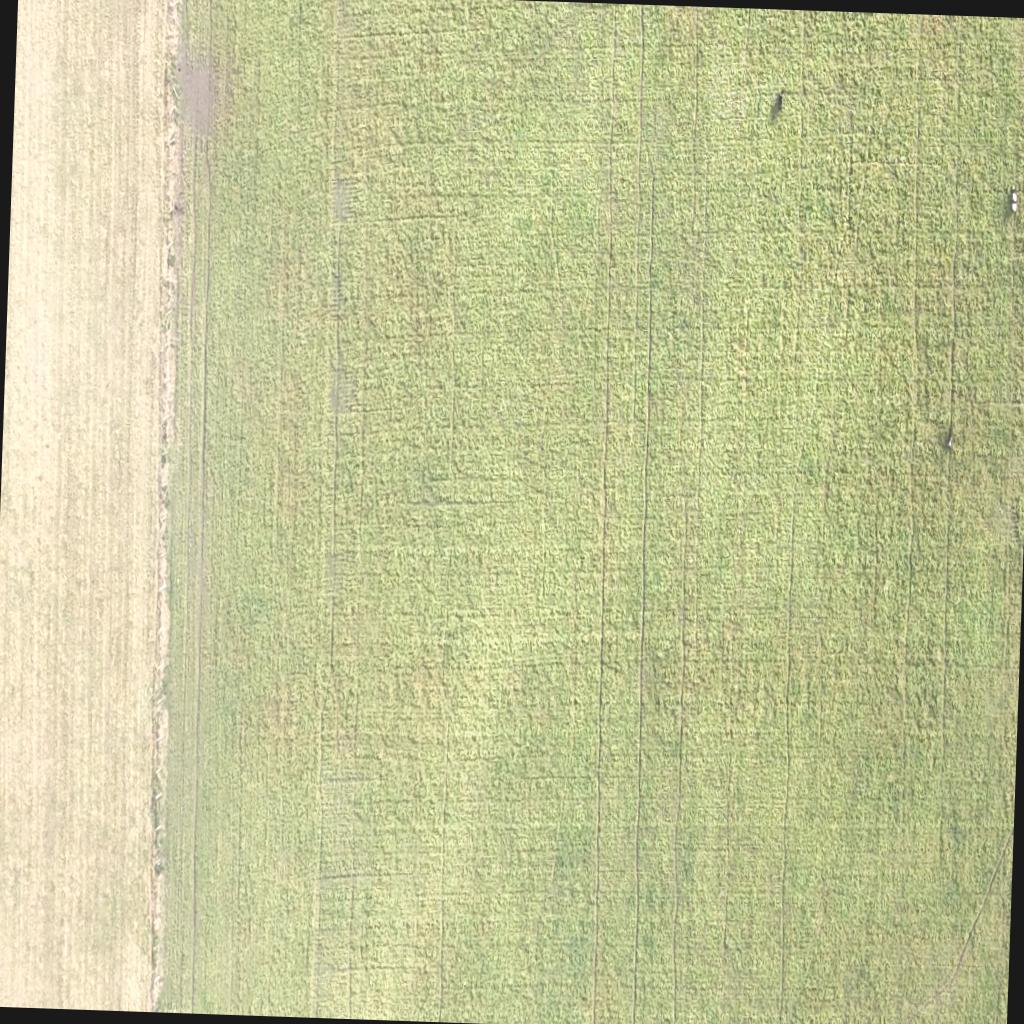cow: (943, 429, 955, 458), (1009, 185, 1019, 213)
